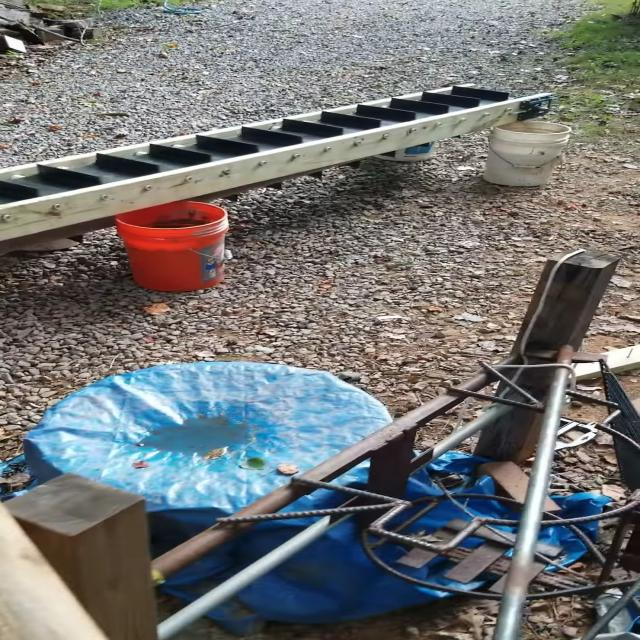Convoyeur: (0, 80, 561, 243)
